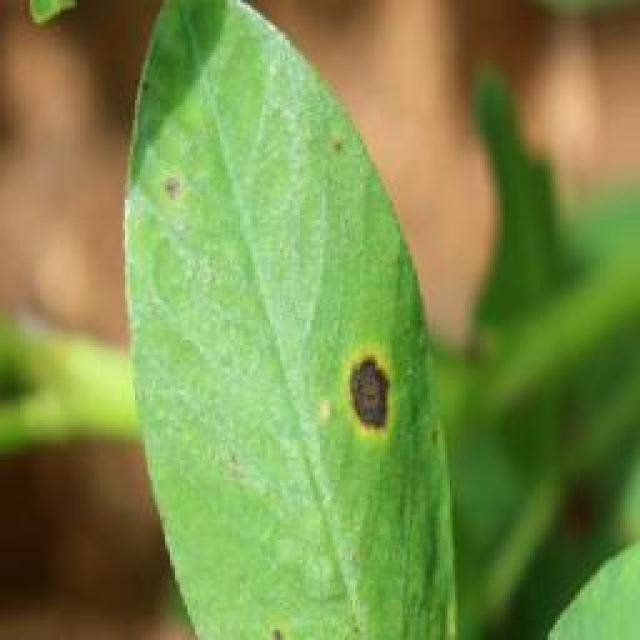Sigatoka: (308, 328, 416, 445), (132, 151, 209, 226)
